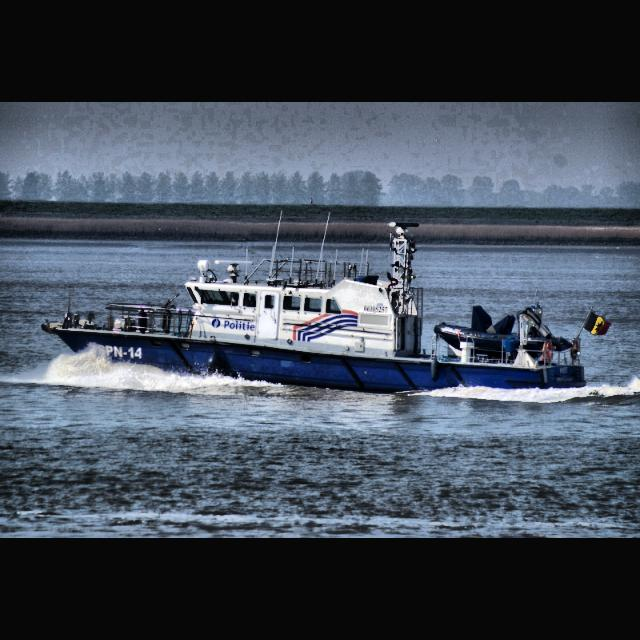patrol_vessel: (39, 220, 589, 396)
